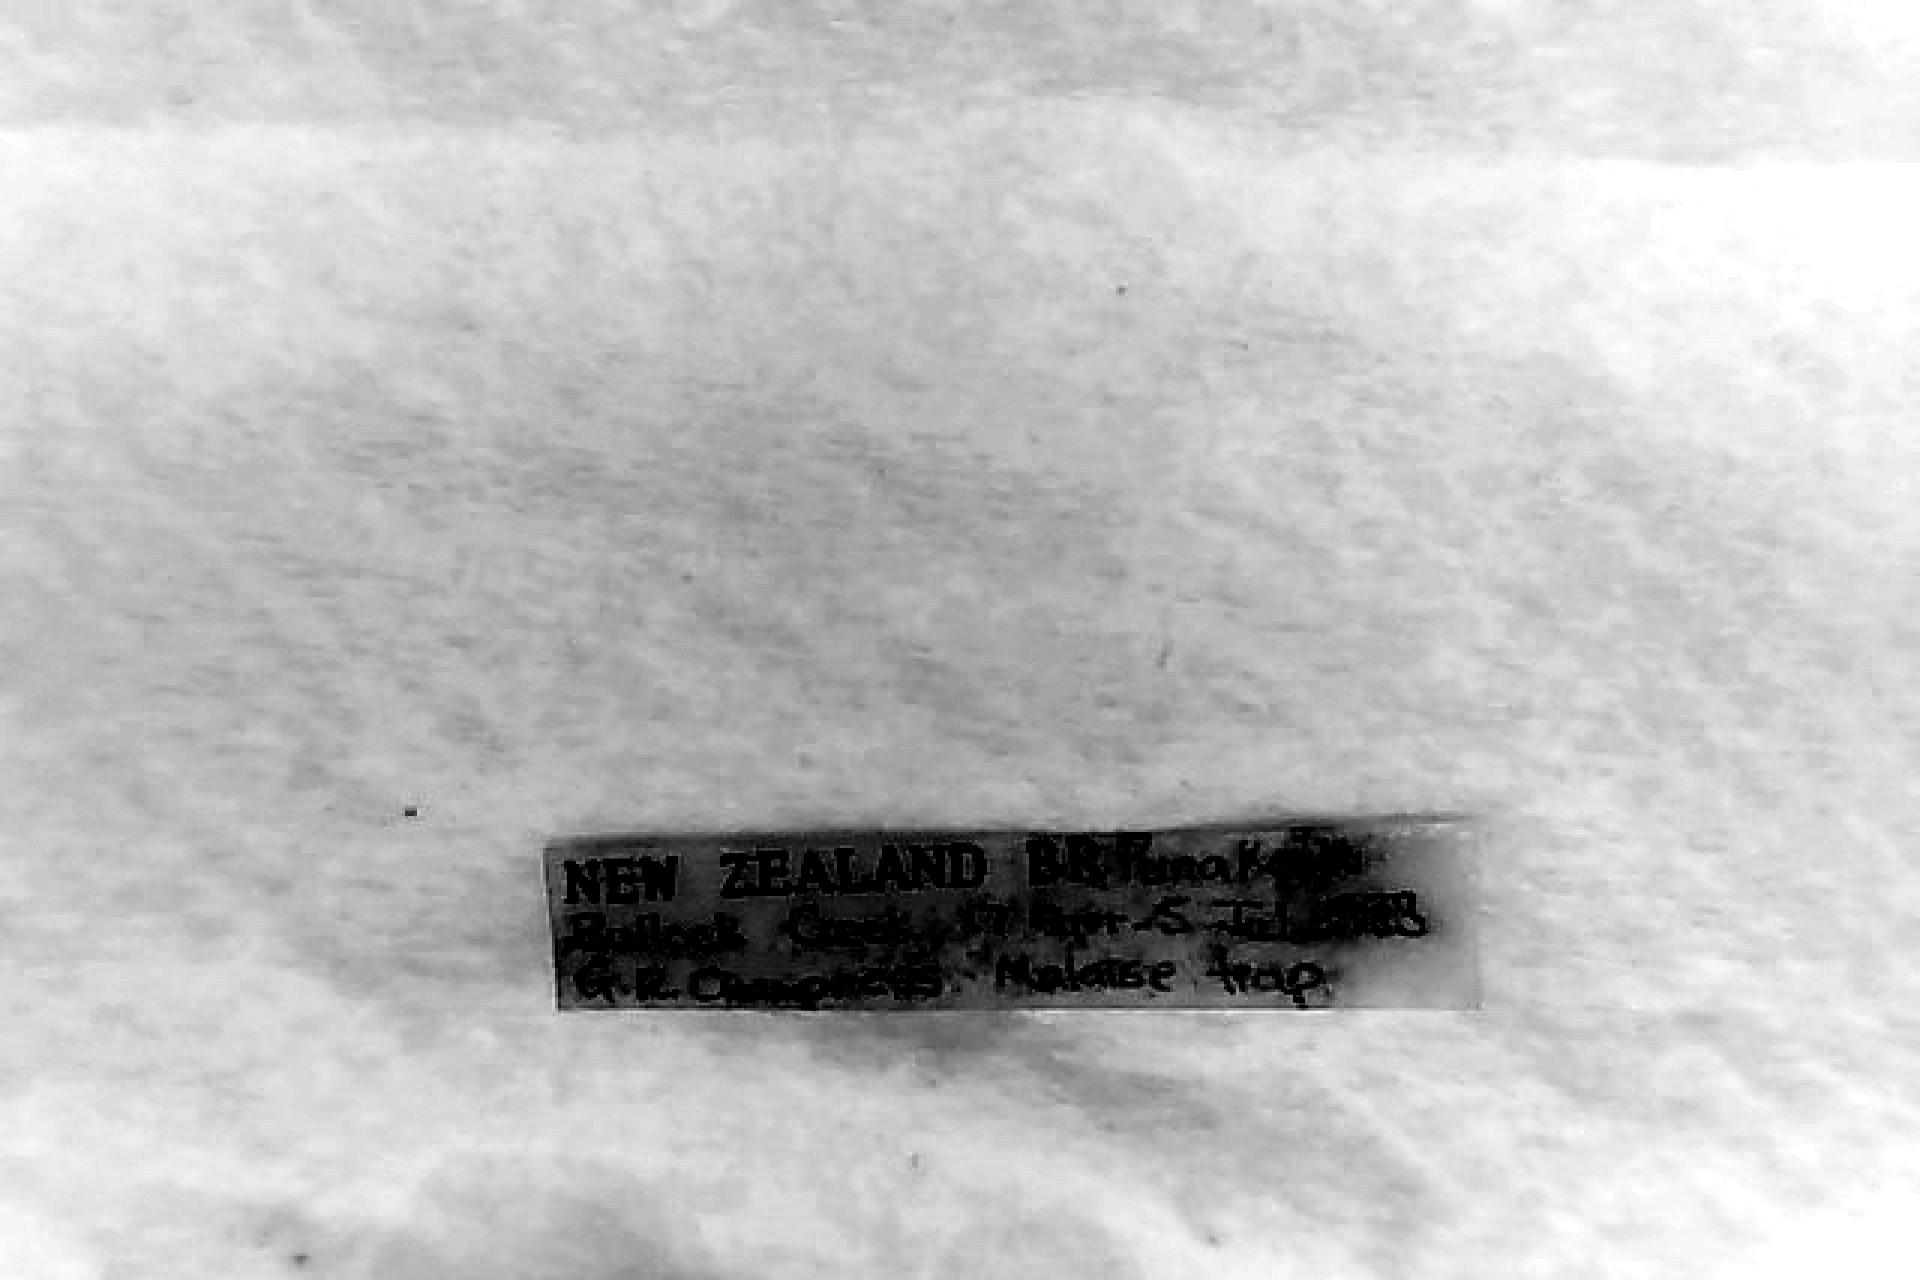mixed_label: (544, 820, 1478, 1010)
